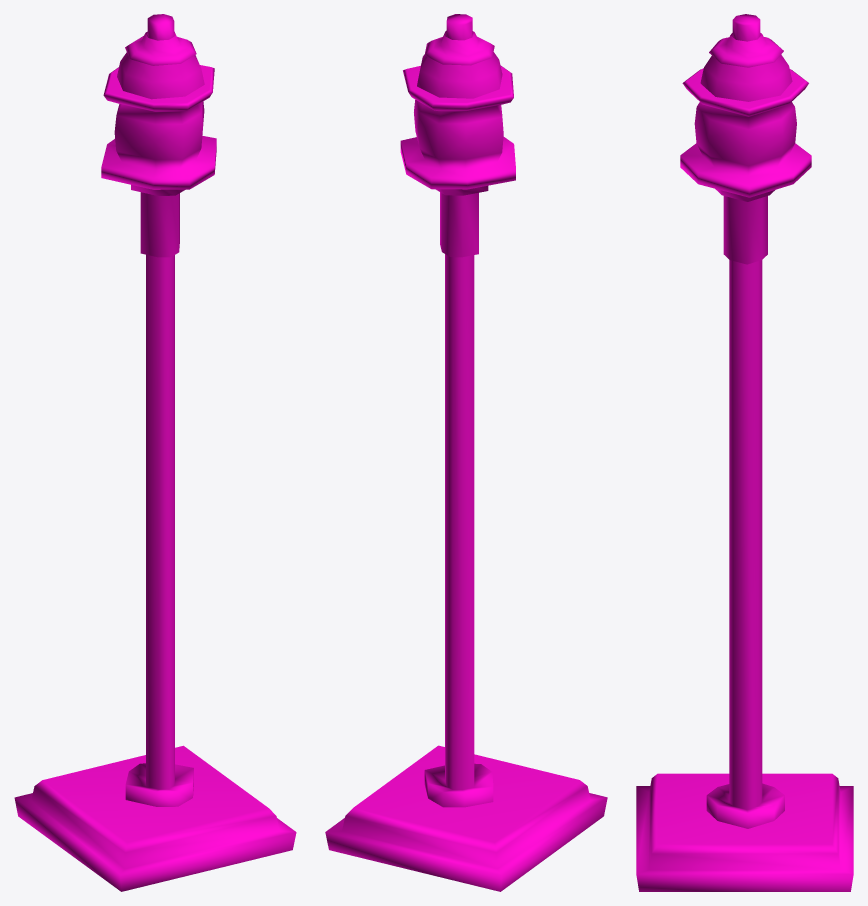
File: Poste.fbx
3 views of the same model, side by side, from view 1: azimuth 30°, elevation 25°; view 2: azimuth 150°, elevation 25°; view 3: azimuth 270°, elevation 25° (orthographic). The views are drawn at different scales.
Visible parts, largest first — view 1: Poste_Low; view 2: Poste_Low; view 3: Poste_Low.
Part boxes in pixels (left/top/right/bottom): Poste_Low: left=14, top=14, right=296, bottom=891; Poste_Low: left=325, top=14, right=607, bottom=891; Poste_Low: left=636, top=14, right=853, bottom=891.
Size of the model in its own units: 110 by 484 by 115.
